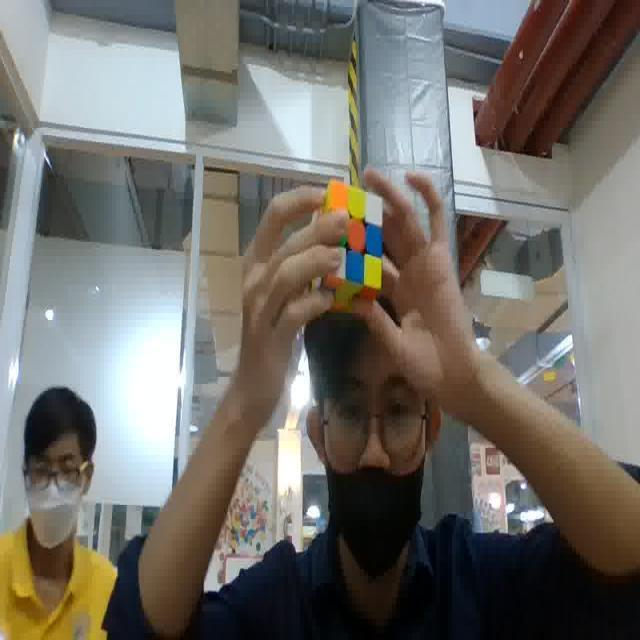Rub: (311, 182, 386, 316)
